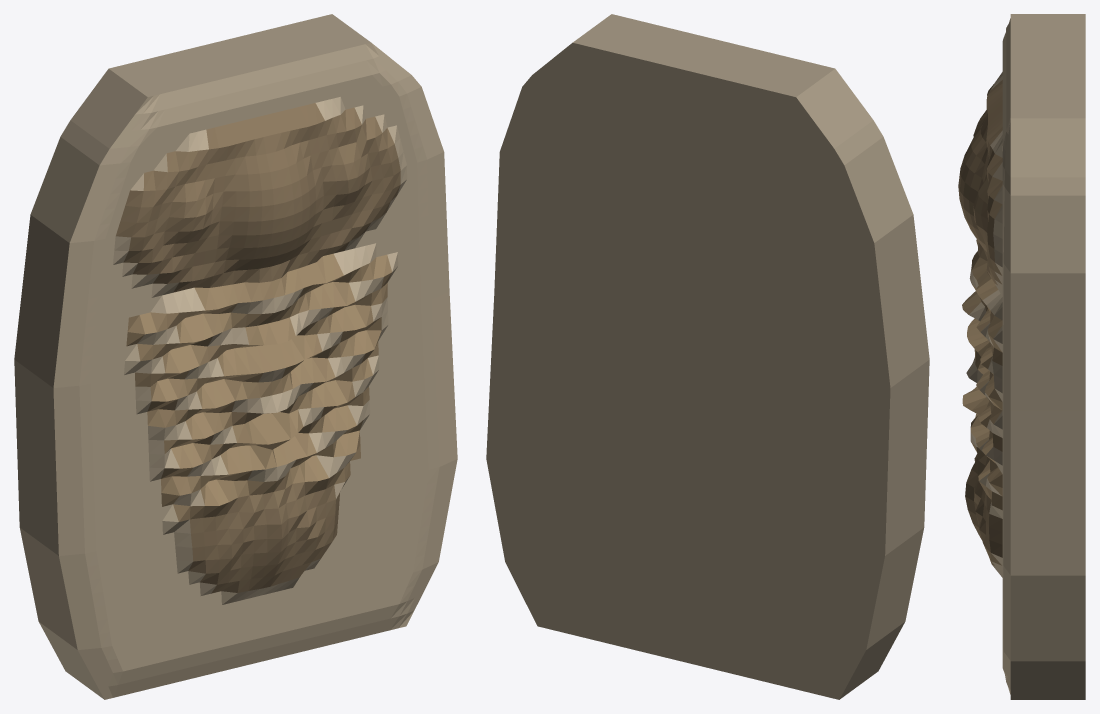
3 views of the same model, side by side, from view 1: azimuth 30°, elevation 25°; view 2: azimuth 150°, elevation 25°; view 3: azimuth 270°, elevation 25° (orthographic). The views are drawn at different scales.
Visible parts, largest first — view 1: ContinuousTrilobiteFossilStoneSlab; view 2: ContinuousTrilobiteFossilStoneSlab; view 3: ContinuousTrilobiteFossilStoneSlab.
Part boxes in pixels (<box>): ContinuousTrilobiteFossilStoneSlab: <box>14,14,457,699</box>; ContinuousTrilobiteFossilStoneSlab: <box>486,14,929,699</box>; ContinuousTrilobiteFossilStoneSlab: <box>958,14,1085,699</box>.
Size of the model in its own units: 1.5 by 2.1 by 0.4288.
